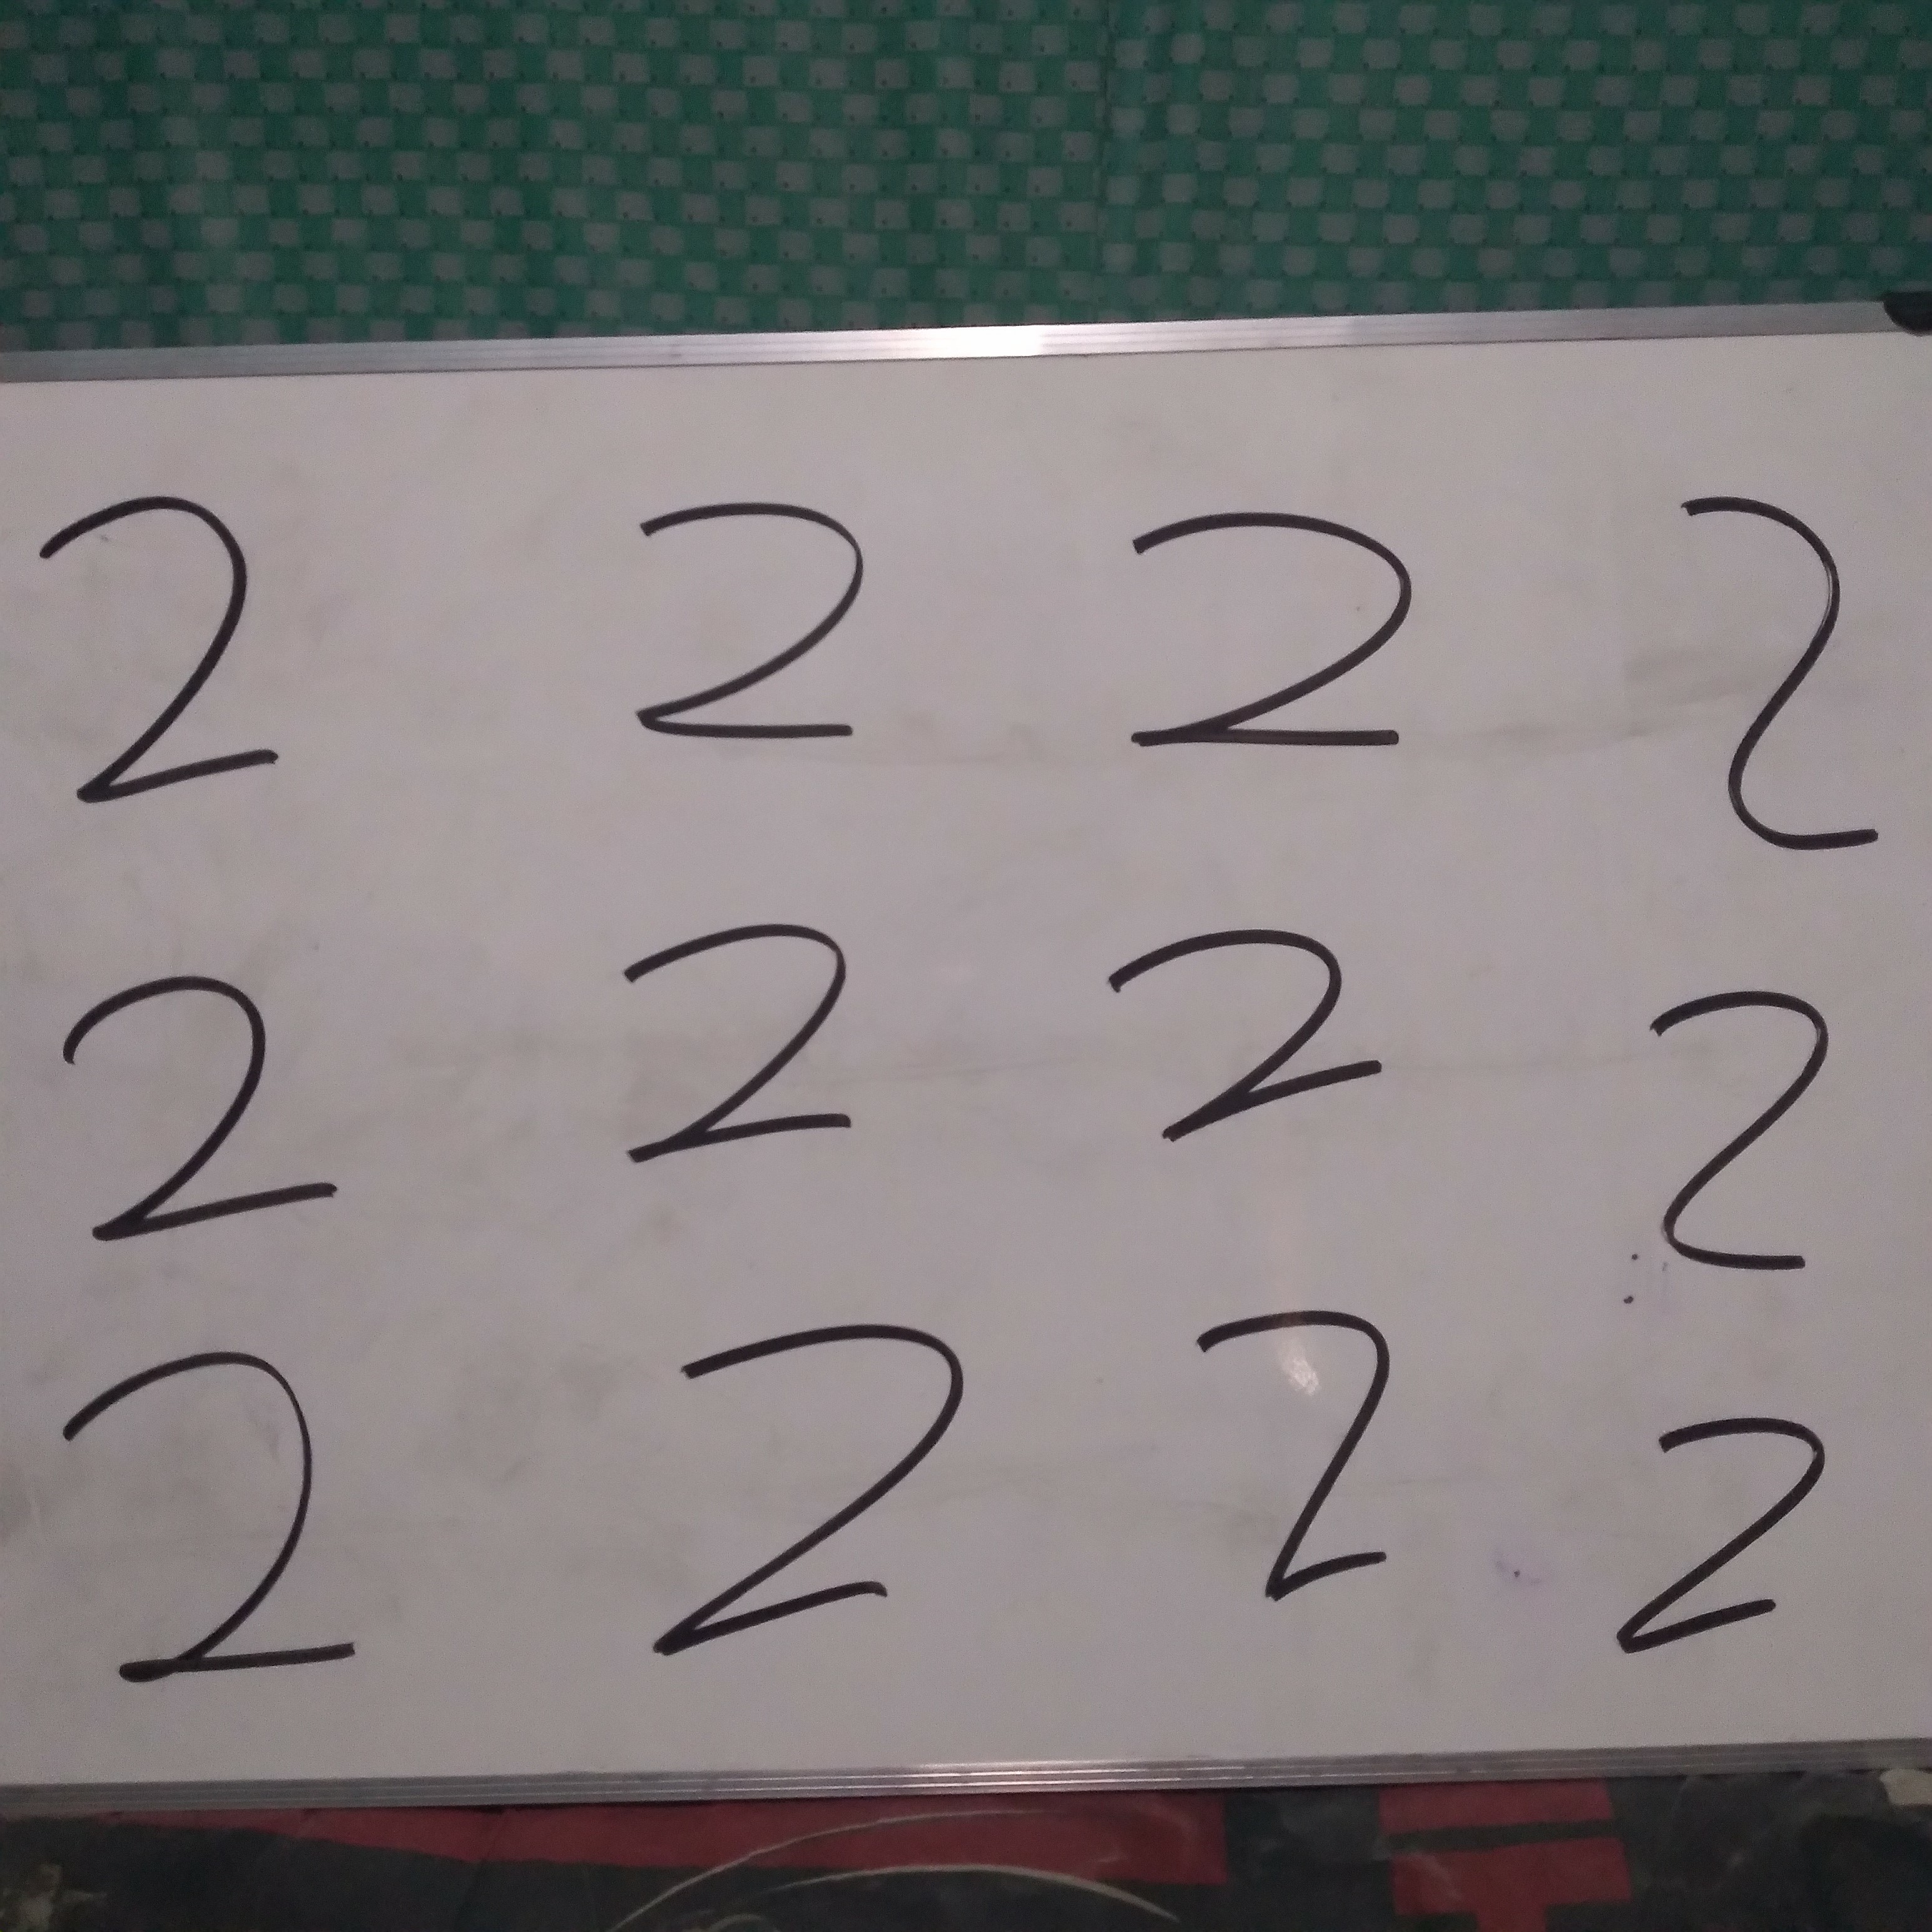num2: (619, 1270, 997, 1682), (1609, 470, 1932, 879), (1563, 931, 1886, 1340), (1152, 1254, 1476, 1663), (1091, 857, 1414, 1266), (53, 1320, 376, 1729), (43, 902, 367, 1311), (1095, 443, 1418, 852), (1562, 1328, 1885, 1737), (1, 427, 323, 836), (567, 412, 890, 821), (585, 880, 908, 1289)
